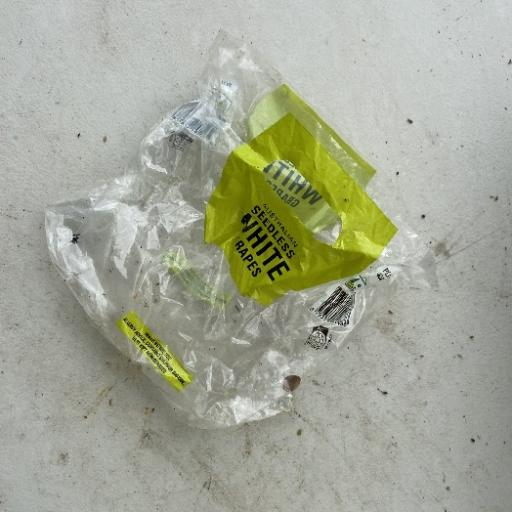Plastic: (42, 29, 424, 430), (202, 85, 399, 308)
